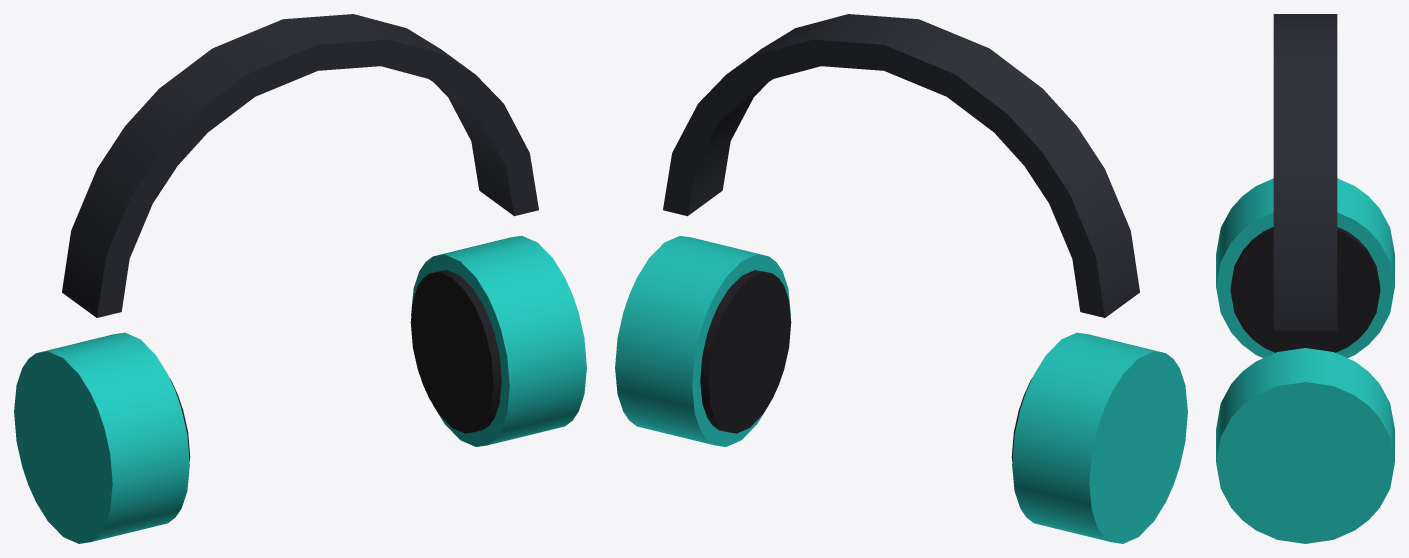
File: headphones.obj
3 renders of one model, left to right at view 1: azimuth 30°, elevation 25°; view 2: azimuth 150°, elevation 25°; view 3: azimuth 270°, elevation 25°, orthographic. The views are drawn at different scales.
Visible parts, largest first — view 1: Headband, CupL, CupR, PadR; view 2: Headband, CupL, CupR, PadR; view 3: CupR, Headband, PadL, CupL.
Part boxes in pixels (x1,y1,x2,y2): Headband: (62,14,538,317); CupL: (14,332,189,543); CupR: (411,235,586,446); PadR: (410,270,501,433); Headband: (663,14,1139,317); CupL: (1012,332,1187,543); CupR: (615,235,790,446); PadR: (700,270,791,433); CupR: (1216,348,1394,543); Headband: (1273,14,1337,330); PadL: (1230,227,1380,352); CupL: (1216,178,1394,358).
Size of the model in its own units: 1.72 by 1.55 by 0.62.
